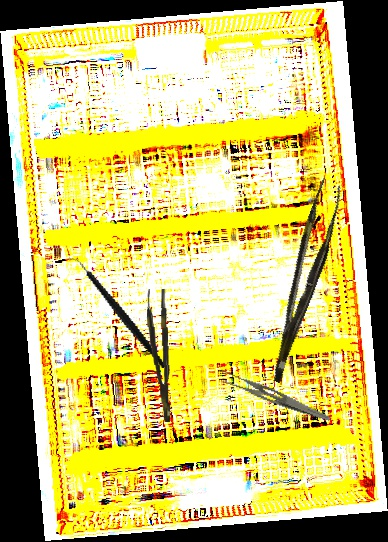Chopper: (64, 238, 169, 387)
Dressing Forceps: (216, 368, 335, 422)
Tissue Forceps: (249, 177, 354, 384), (145, 288, 173, 423)
